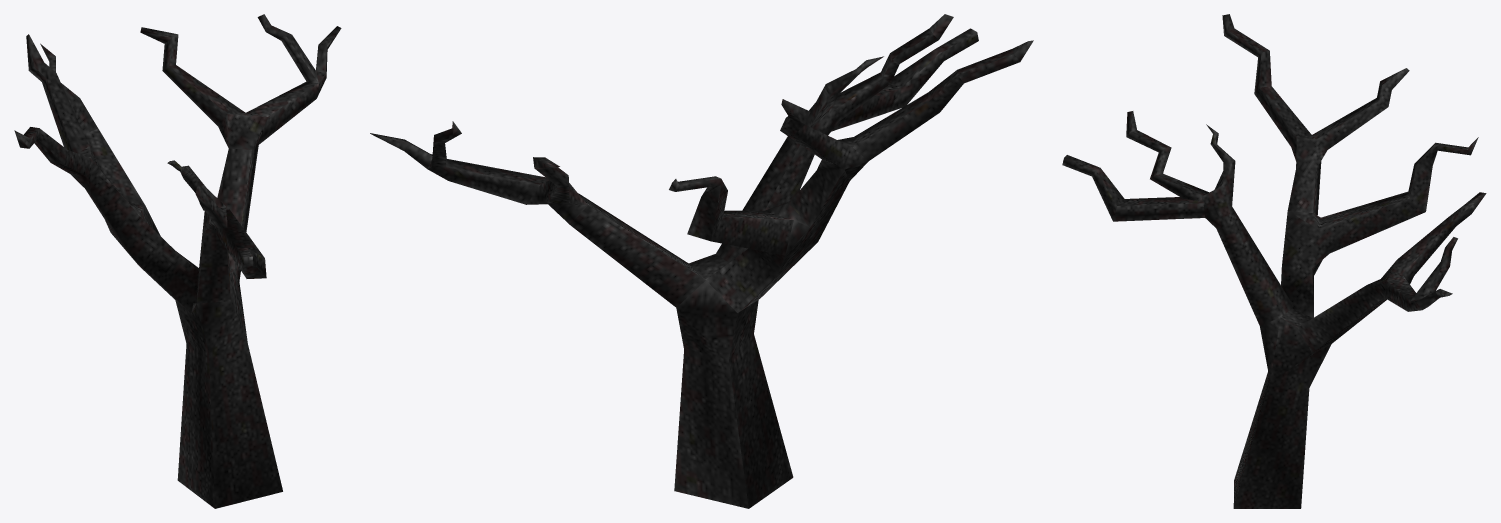
Rendered from Tree 2.obj.
The picture shows the model from 3 angles, left to right: view 1: azimuth 30°, elevation 25°; view 2: azimuth 150°, elevation 25°; view 3: azimuth 270°, elevation 25°; orthographic projection. The views are drawn at different scales.
Parts seen in each view (by area): view 1: Tree2; view 2: Tree2; view 3: Tree2.
Boxes of the visible parts, bbox=[...] form: Tree2: bbox=[14, 14, 341, 508]; Tree2: bbox=[370, 14, 1033, 508]; Tree2: bbox=[1062, 14, 1486, 508].
Size of the model in its own units: 2.35 by 2.14 by 2.17.
1 material, 1 textured.
